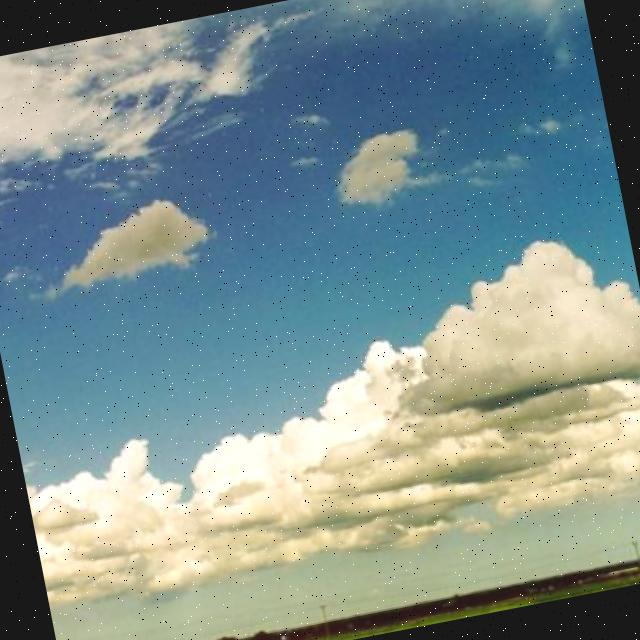Cu: (1, 185, 640, 631)
